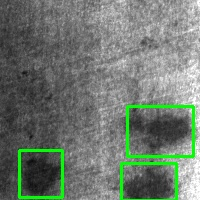patches: (127, 106, 193, 156), (121, 163, 176, 200), (19, 150, 62, 197)
